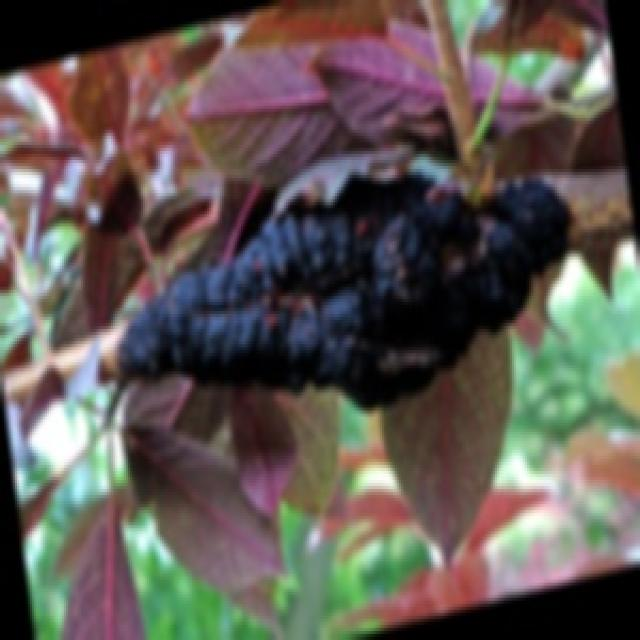Black_knot: (111, 157, 572, 411)
